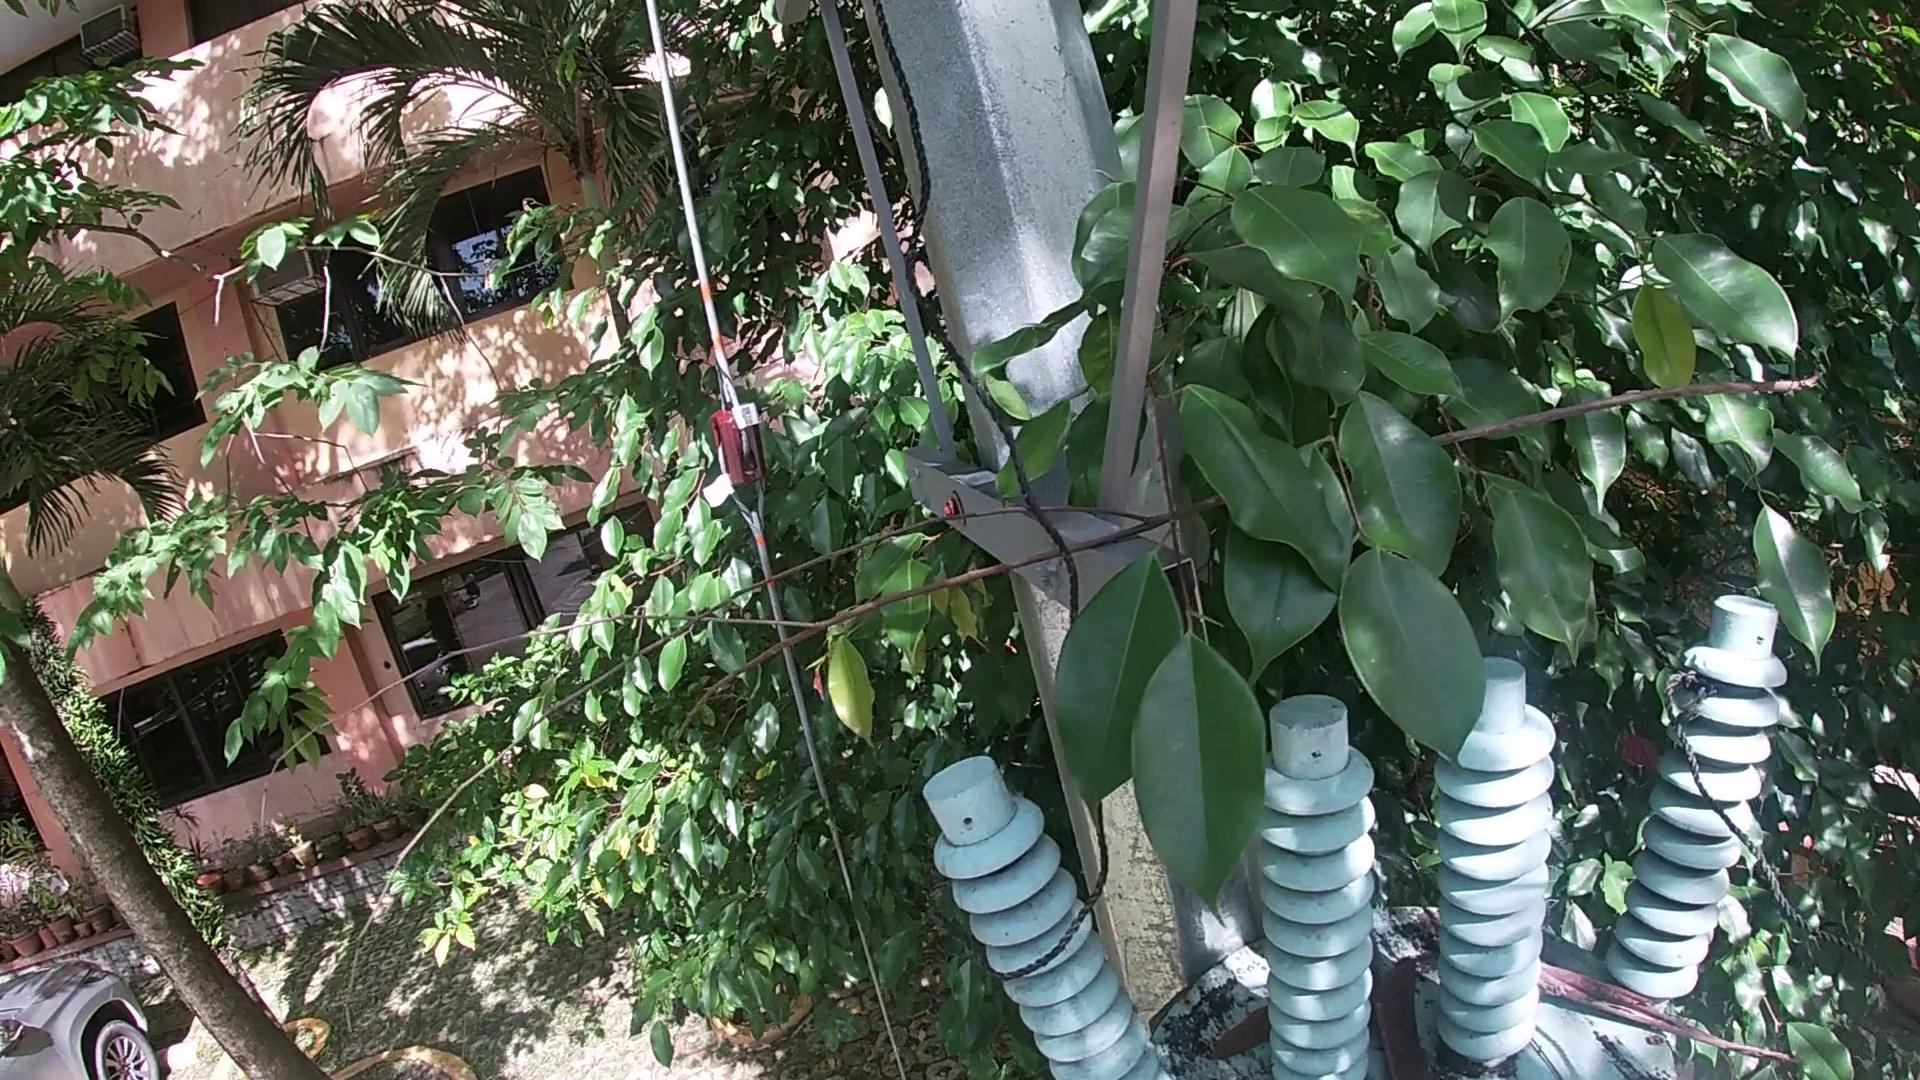leaf: (1204, 1007, 1269, 1064)
mahogany fruit: (1385, 951, 1427, 1077)
tree branch: (150, 345, 1826, 1027), (1530, 952, 1816, 1072), (1371, 957, 1382, 1036)
